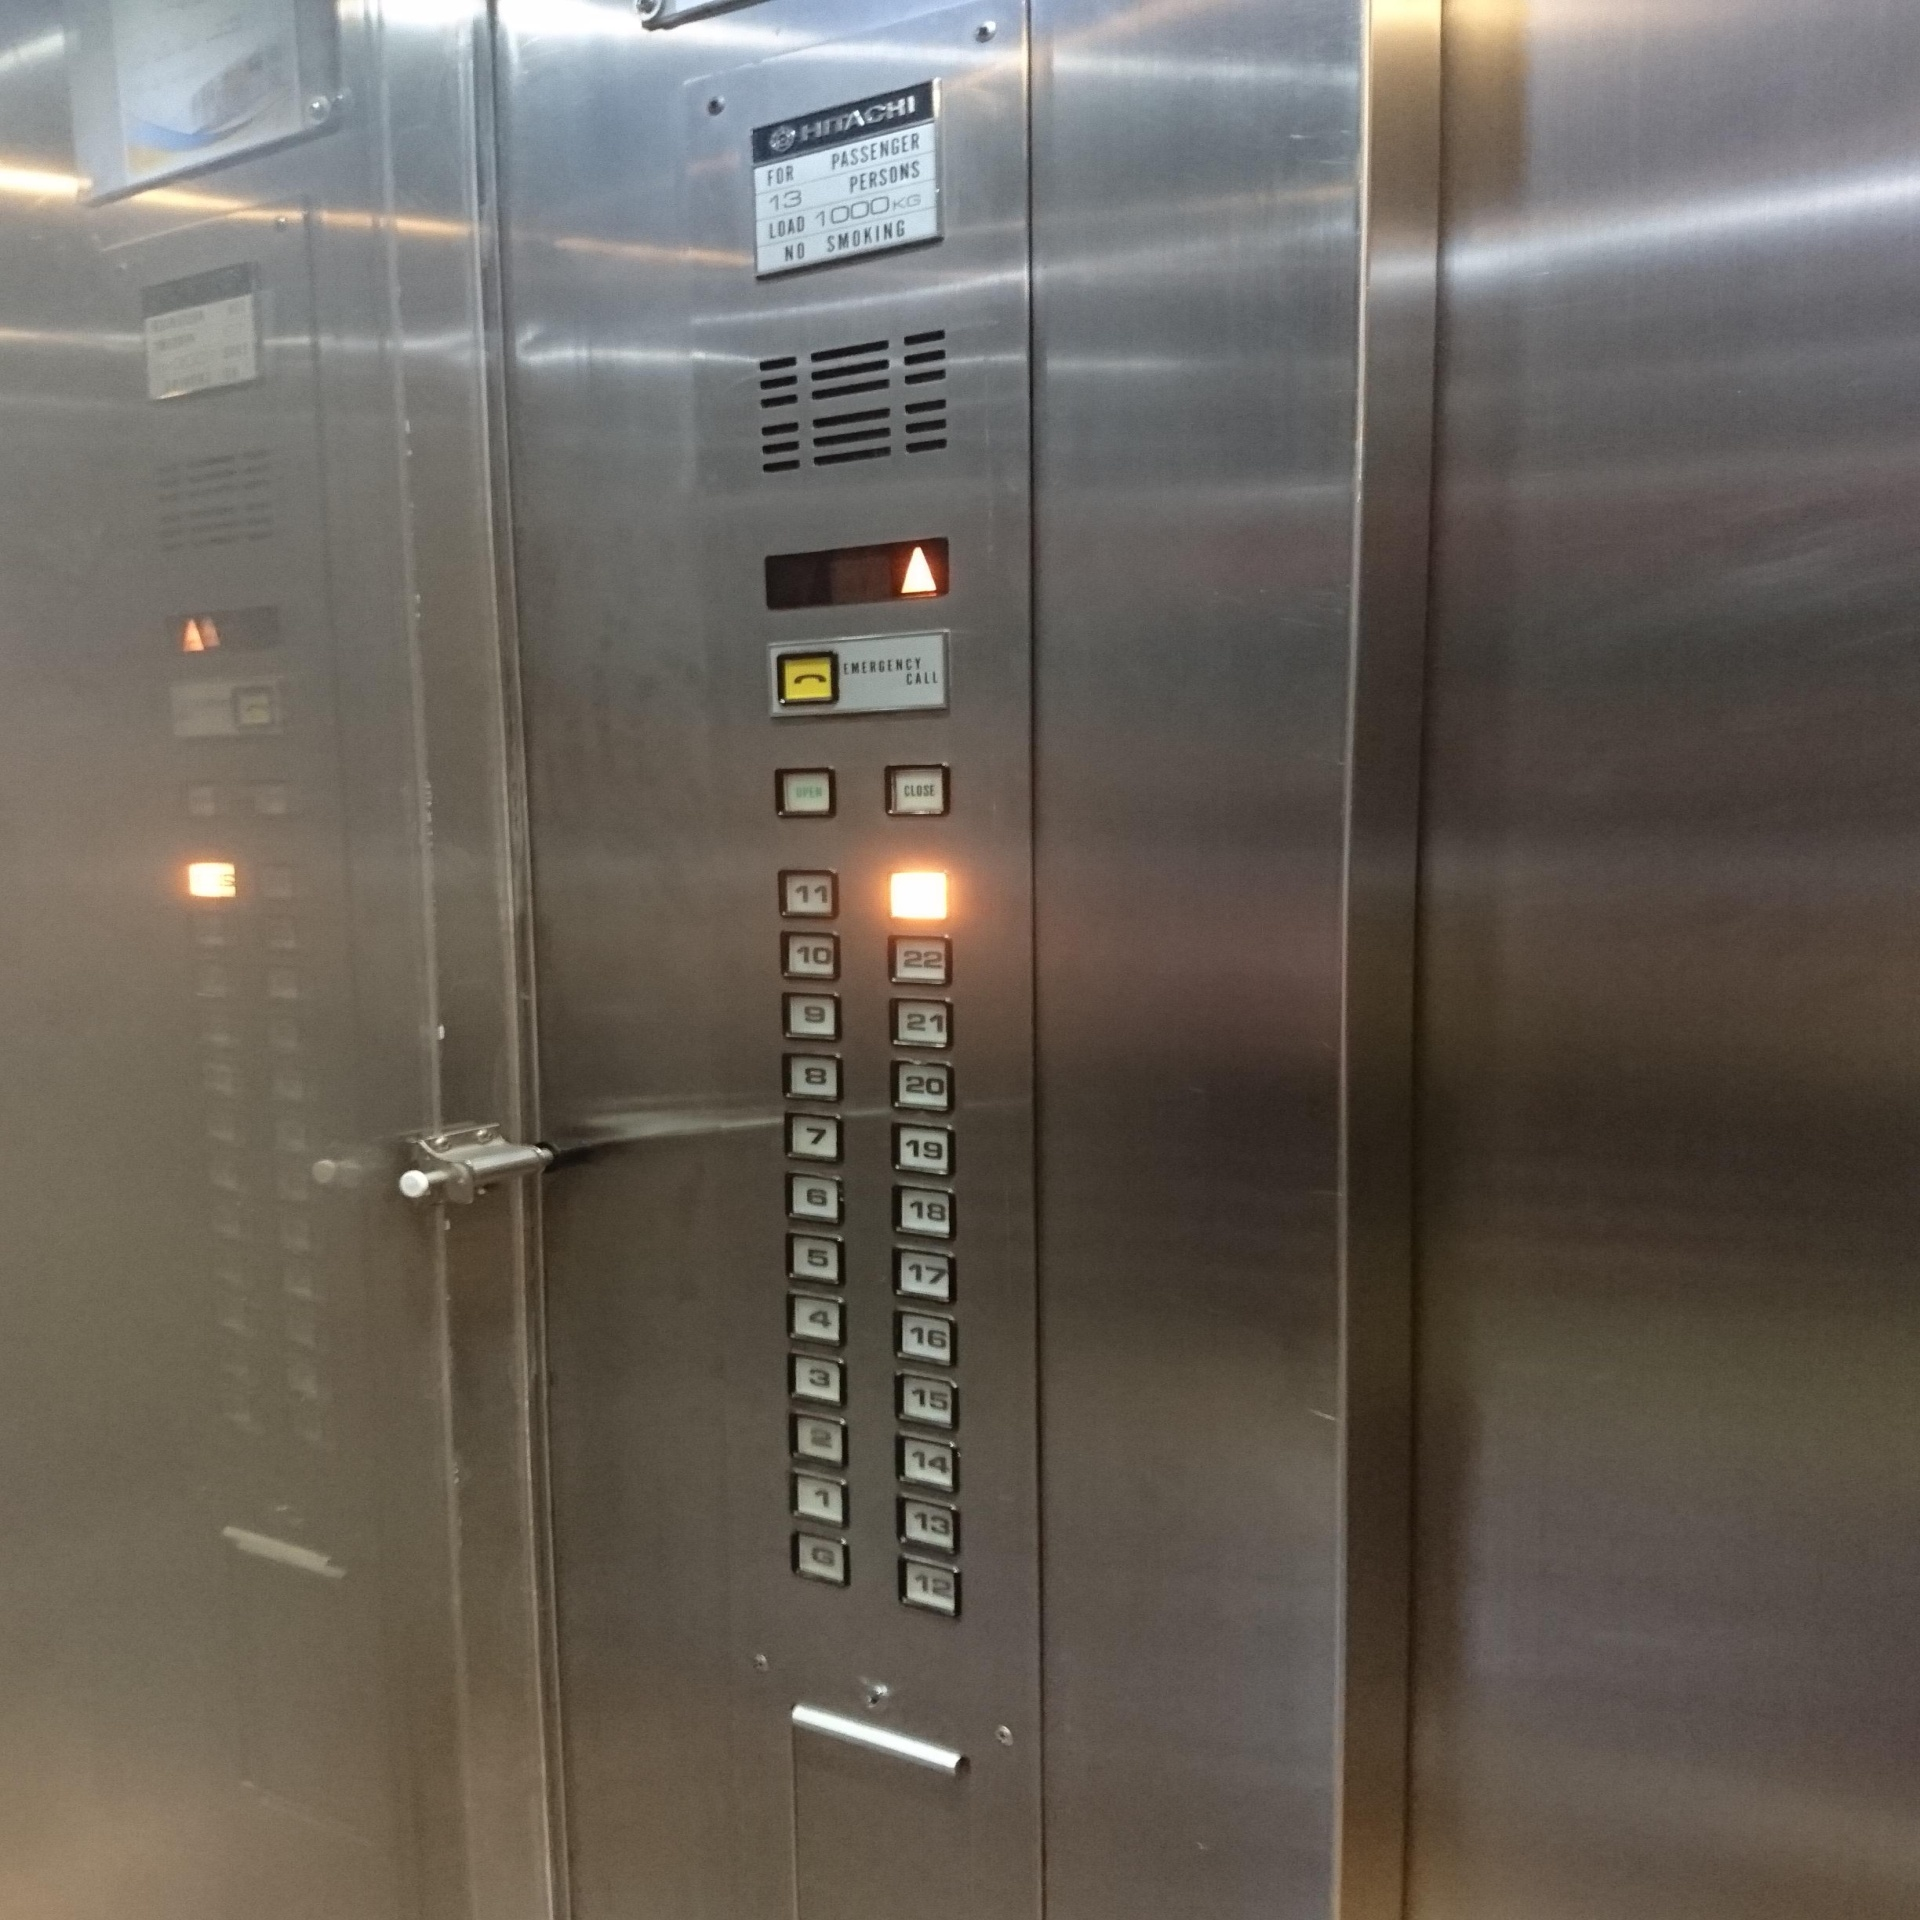1: (789, 1466, 849, 1530)
10: (777, 927, 842, 986)
11: (775, 867, 842, 921)
12: (897, 1551, 964, 1618)
13: (897, 1487, 960, 1560)
14: (895, 1424, 958, 1496)
15: (893, 1366, 958, 1435)
16: (891, 1305, 956, 1371)
17: (891, 1240, 958, 1308)
18: (890, 1180, 958, 1245)
19: (888, 1116, 956, 1182)
2: (788, 1407, 849, 1472)
20: (888, 1053, 956, 1116)
21: (888, 993, 955, 1051)
22: (884, 932, 955, 988)
3: (786, 1347, 847, 1408)
4: (784, 1282, 849, 1350)
5: (782, 1225, 846, 1289)
6: (782, 1167, 846, 1225)
7: (782, 1109, 846, 1164)
8: (781, 1051, 846, 1104)
9: (781, 988, 844, 1044)
G: (789, 1524, 853, 1589)
call: (775, 647, 839, 709), (229, 680, 280, 733)
empty: (886, 867, 949, 925)
keyhole: (856, 1677, 891, 1714)
led: (765, 536, 951, 610)
text_close: (883, 761, 951, 818)
text_open: (774, 763, 837, 823)
